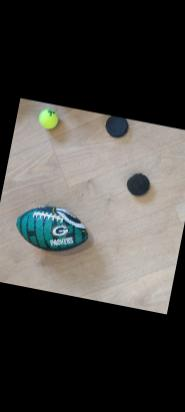Rugby: (6, 196, 96, 262)
hockey puck: (120, 168, 150, 201)
tennis: (34, 106, 59, 133)
